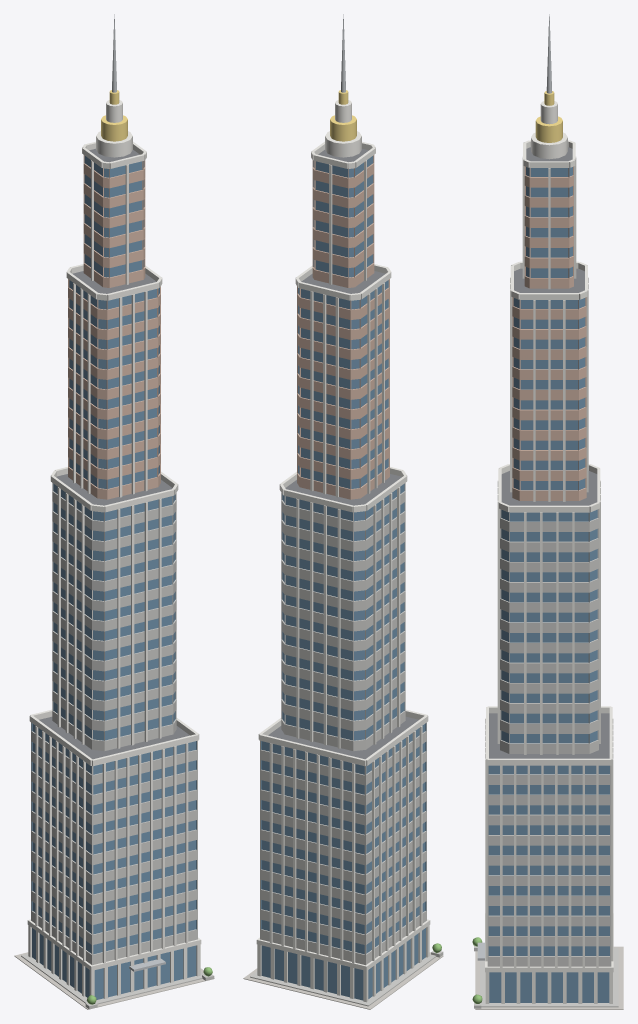
The picture shows the model from 3 angles, left to right: view 1: azimuth 30°, elevation 25°; view 2: azimuth 150°, elevation 25°; view 3: azimuth 270°, elevation 25°; orthographic projection.
Visible parts, largest first — view 1: c_3_2_c; view 2: c_3_2_c; view 3: c_3_2_c.
Part boxes in pixels (x1,y1,x2,y2): c_3_2_c: (14,14,214,1009); c_3_2_c: (243,14,443,1009); c_3_2_c: (472,14,623,1009).
Size of the model in its own units: 24 by 172 by 24.46.
